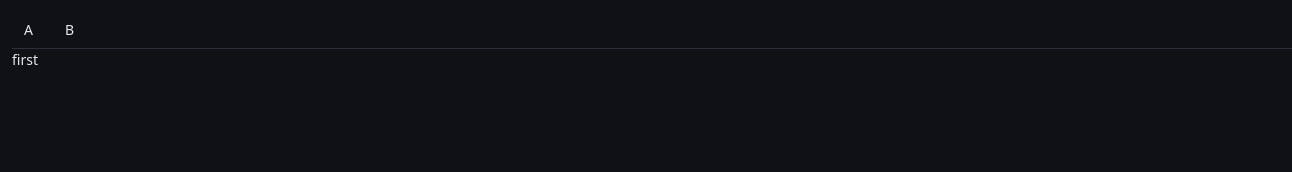
Test case: dashboard components › switches tab panels
Expected: the text "first" is shown, [12,50,38,69]
Click the tab "B". click: [70, 30]
box: [53,12,86,48]
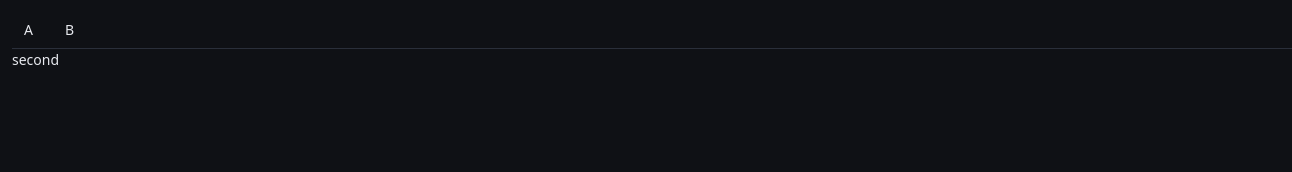
Expected: the text "second" is shown, [12,50,59,69]
